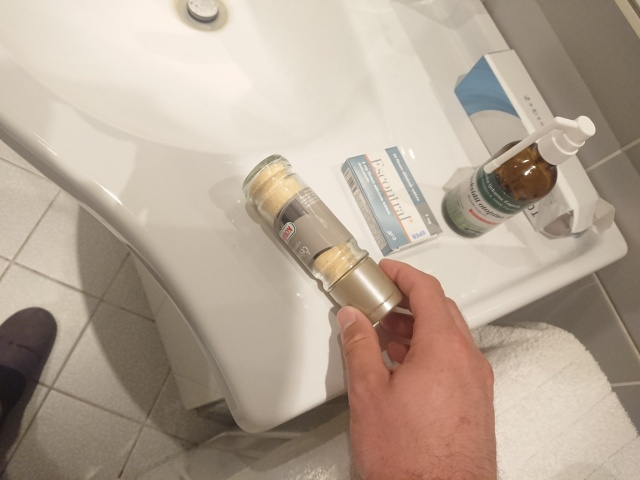Kotanyi Garlic Granules 70g: (240, 151, 406, 333)
